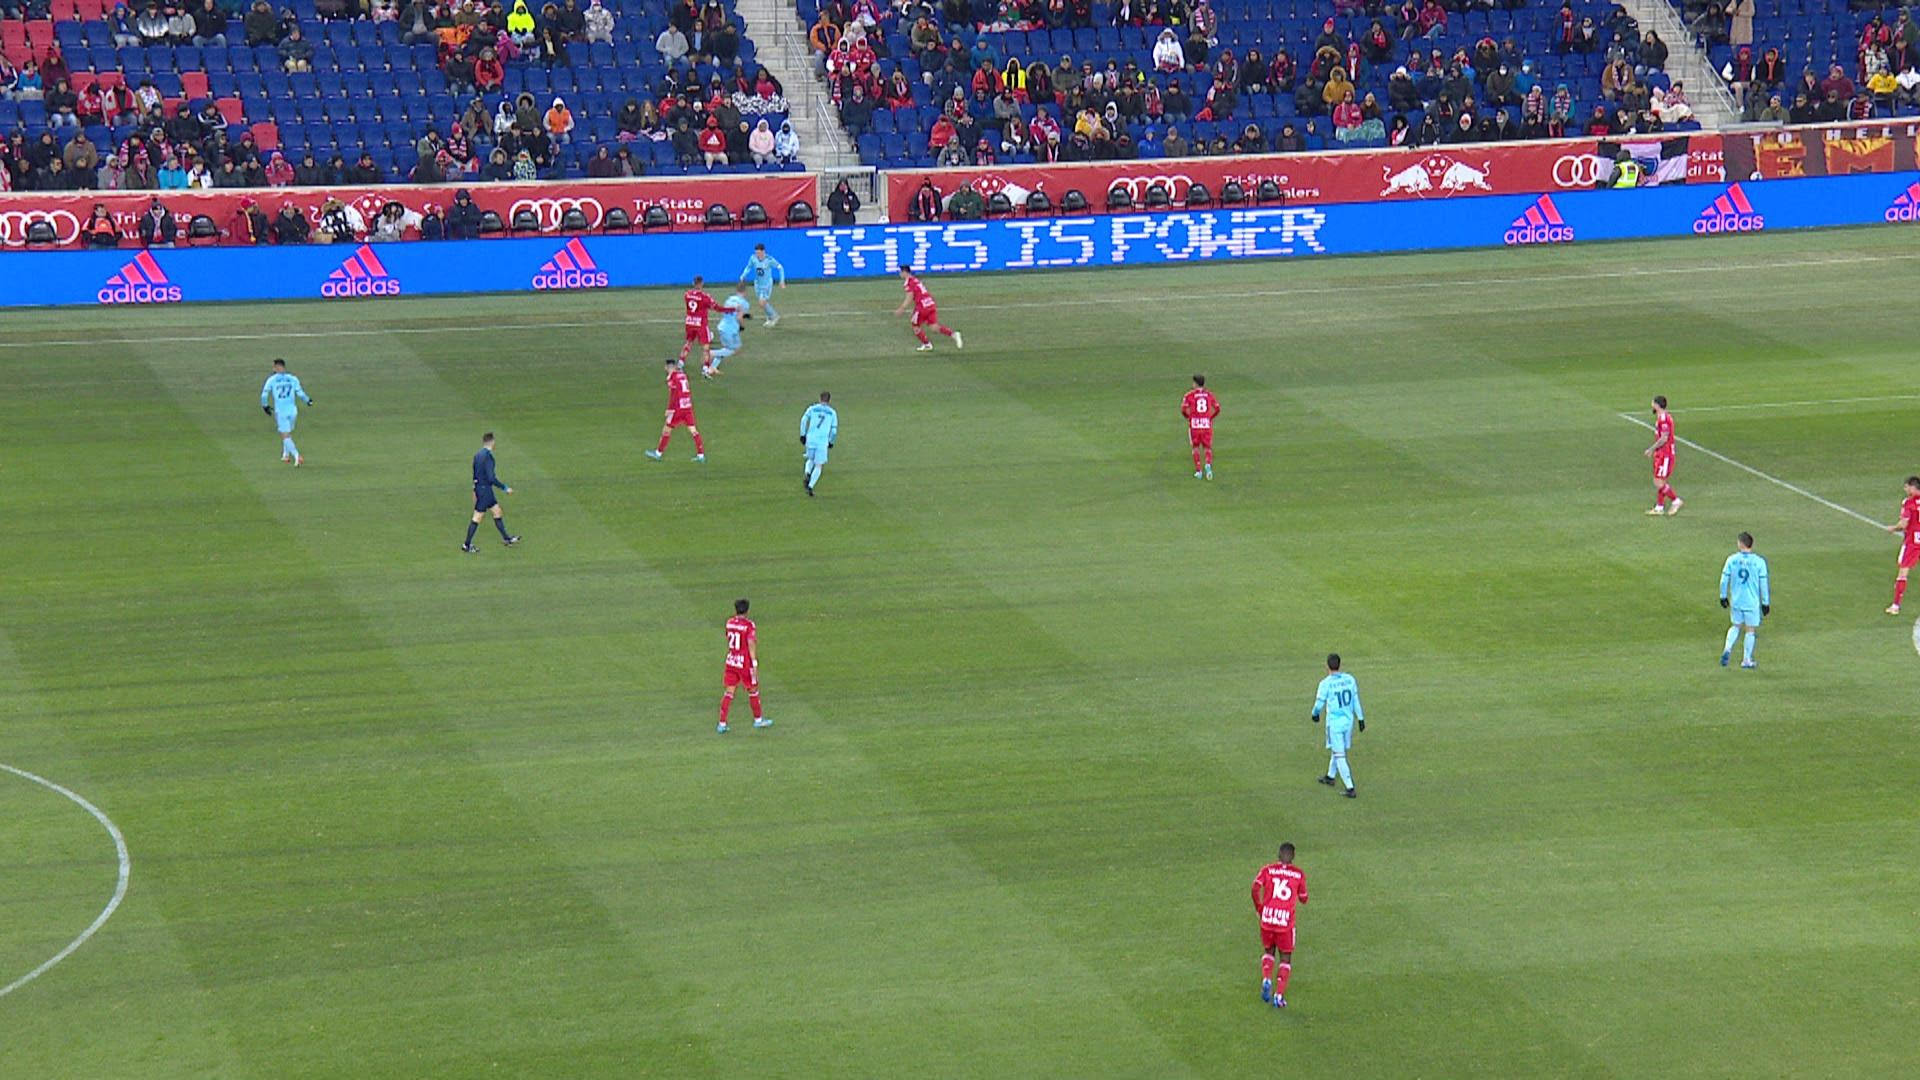football: (711, 331, 716, 342)
